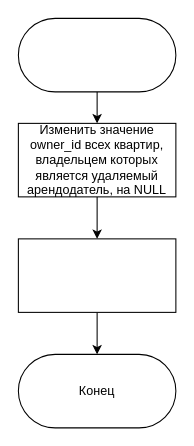
The diagram is 194 pixels wide and 446 high, and some of its shapes have lost their labels. The shapes that lost their labels are listed below. From the top down, each one's box as (x1, y1, x2, y2) in pixels, then its label:
(17, 17, 176, 92): Начало
(17, 238, 176, 312): Удалить все подписки на удаляемого арендодателя
